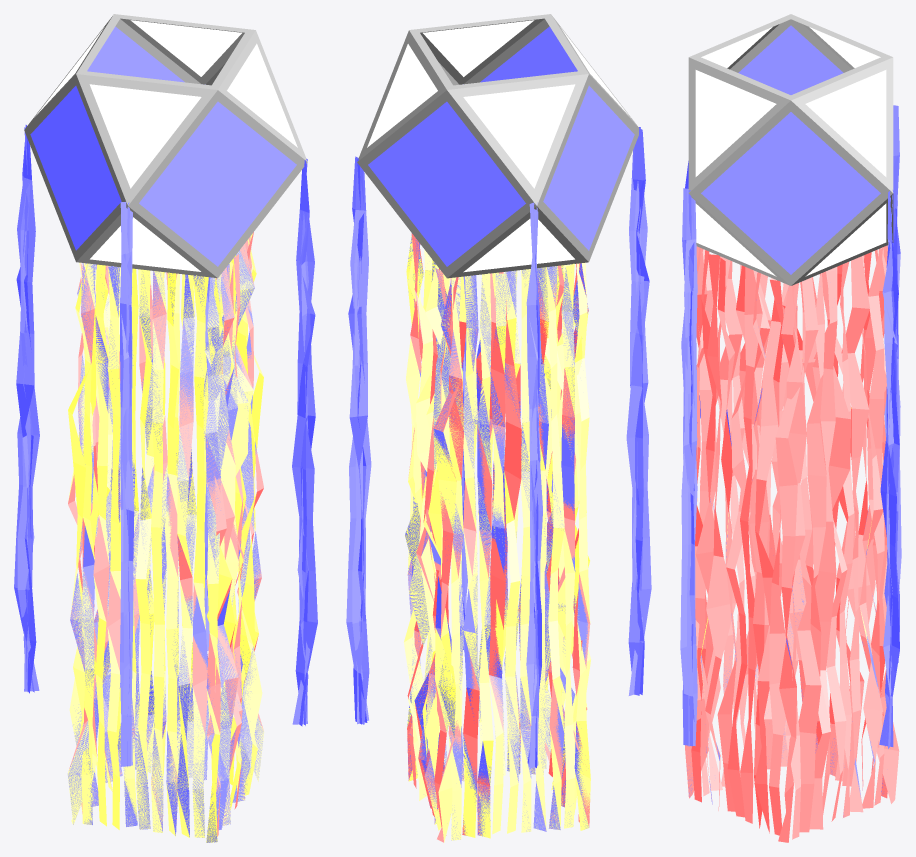
The model's file is vesak-lanterns.glb.
3 renders of one model, left to right at view 1: azimuth 30°, elevation 25°; view 2: azimuth 150°, elevation 25°; view 3: azimuth 270°, elevation 25°, orthographic.
Visible parts, largest first — view 1: Plane001_7, Cube_0, Plane002_3, Plane003_4, Plane005_11; view 2: Plane001_7, Cube_0, Plane003_4, Plane002_3, Plane005_11; view 3: Plane005_11, Cube_0, Plane003_4, Plane002_3.
Part boxes in pixels (box(x1,y1,x2,y2)): Plane001_7: box(67, 233, 264, 842); Cube_0: box(24, 14, 307, 278); Plane002_3: box(68, 250, 263, 842); Plane003_4: box(14, 84, 317, 766); Plane005_11: box(68, 232, 263, 836); Plane001_7: box(404, 236, 591, 842); Cube_0: box(357, 14, 639, 278); Plane003_4: box(346, 84, 651, 768); Plane002_3: box(405, 235, 588, 840); Plane005_11: box(407, 233, 590, 842); Plane005_11: box(685, 245, 899, 842); Cube_0: box(688, 14, 893, 285); Plane003_4: box(680, 105, 901, 748); Plane002_3: box(687, 308, 884, 816).
Size of the model in its own units: 0.2703 by 1 by 0.2703.
